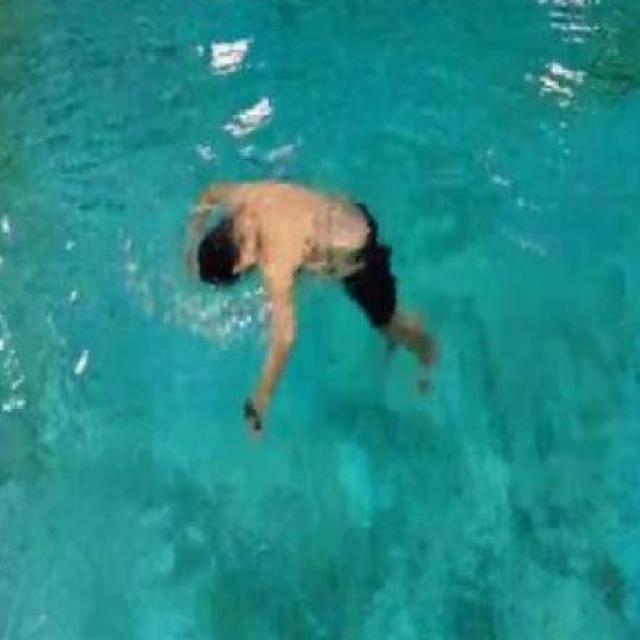Drowning: (182, 175, 438, 428)
